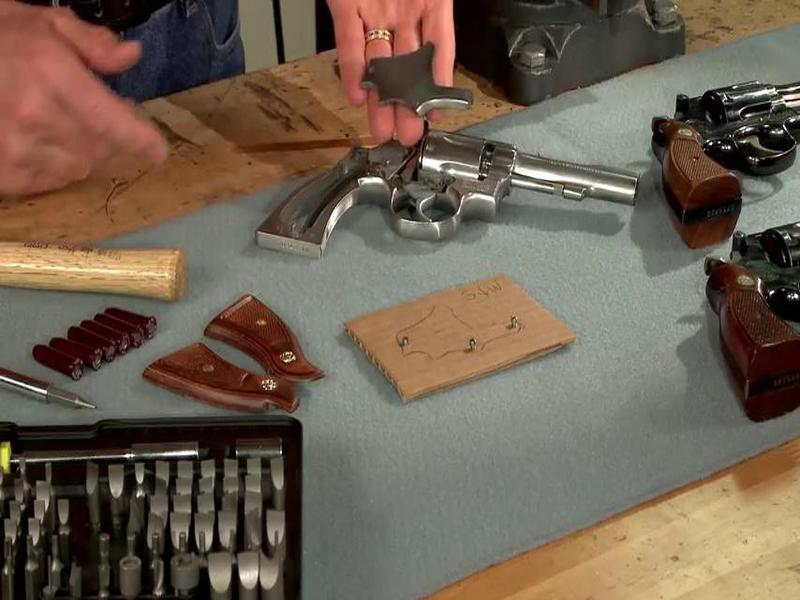Revolver: (191, 102, 664, 306)
